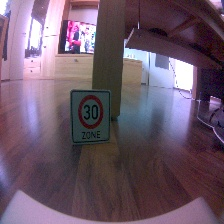dreisiger_zone: (69, 88, 111, 144)
